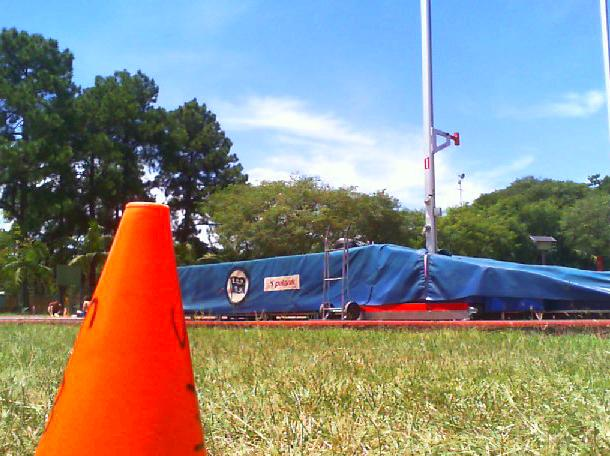0 cone: (30, 203, 210, 456)
